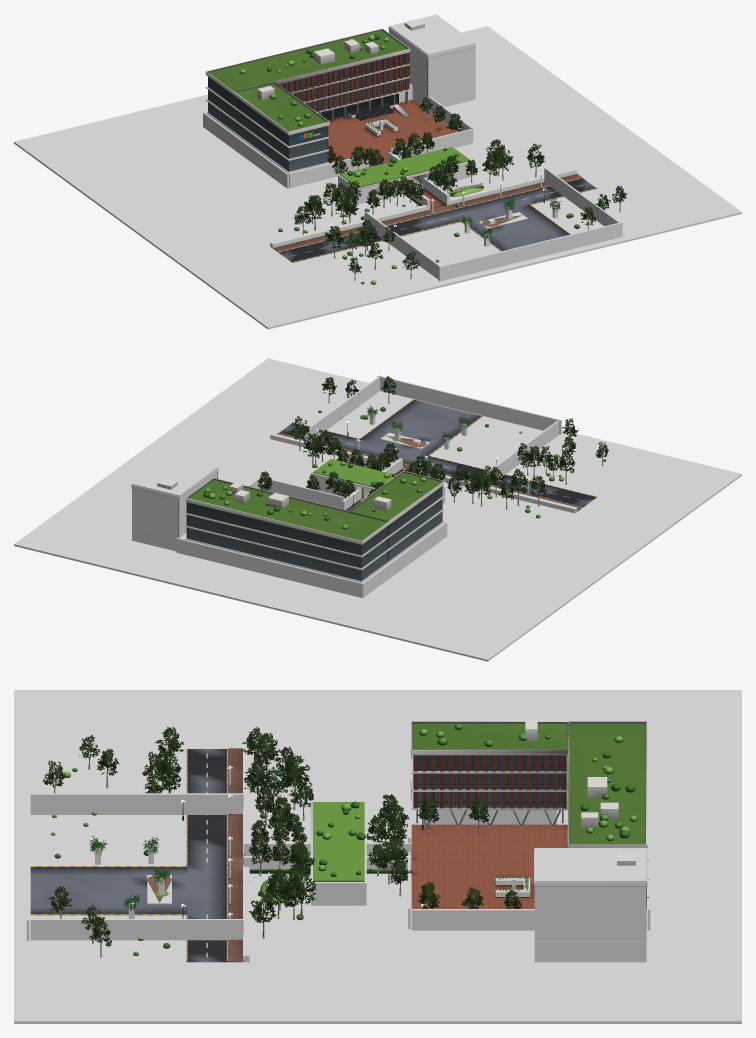
File: zone_02_campus.glb
3 views of the same model, one above another, from view 1: azimuth 30°, elevation 25°; view 2: azimuth 150°, elevation 25°; view 3: azimuth 270°, elevation 25° (orthographic). The views are drawn at different scales.
Parts seen in each view (by area): view 1: COL_ground, ENV_buildings, ENV_ground, COL_khoi_kinh_xam, ENV_paving, COL_bien_nam, COL_bien_tay_san, COL_bien_tay_duong, COL_bien_dong_duong, ENV_props, COL_bien_nam_san_trai, COL_bo_tuong_trai (+4 smaller); view 2: COL_ground, ENV_buildings, ENV_ground, COL_khoi_kinh_xam, COL_bien_bac_san, COL_bien_nam, COL_bien_tay_san, COL_bien_dong_duong, COL_bien_nam_san_phai, COL_bien_tay_duong, ENV_props, ENV_cay_mai (+2 smaller); view 3: COL_ground, ENV_buildings, ENV_ground, COL_khoi_kinh_xam, ENV_paving, COL_bien_tay_duong, COL_bien_dong_duong, COL_bien_dong_san, ENV_cay_mai, COL_canh_trai, ENV_props, ENV_vegetation (+9 smaller).
Part boxes in pixels (x1=…): COL_ground: x1=14, y1=26, x2=741, y2=329; ENV_buildings: x1=205, y1=19, x2=475, y2=190; ENV_ground: x1=272, y1=125, x2=595, y2=262; COL_khoi_kinh_xam: x1=389, y1=14, x2=475, y2=110; ENV_paving: x1=328, y1=99, x2=456, y2=209; COL_bien_nam: x1=438, y1=222, x2=622, y2=281; COL_bien_tay_san: x1=203, y1=112, x2=288, y2=188; COL_bien_tay_duong: x1=364, y1=211, x2=440, y2=279; COL_bien_dong_duong: x1=544, y1=167, x2=619, y2=226; ENV_props: x1=272, y1=127, x2=597, y2=262; COL_bien_nam_san_trai: x1=288, y1=156, x2=369, y2=187; COL_bo_tuong_trai: x1=270, y1=205, x2=430, y2=247; COL_ground: x1=14, y1=358, x2=741, y2=661; ENV_buildings: x1=131, y1=459, x2=445, y2=582; ENV_ground: x1=277, y1=399, x2=596, y2=511; COL_khoi_kinh_xam: x1=132, y1=455, x2=218, y2=551; COL_bien_bac_san: x1=176, y1=538, x2=362, y2=597; COL_bien_nam: x1=377, y1=375, x2=561, y2=434; COL_bien_tay_san: x1=362, y1=522, x2=447, y2=597; COL_bien_dong_duong: x1=304, y1=376, x2=379, y2=441; COL_bien_nam_san_phai: x1=261, y1=477, x2=343, y2=508; COL_bien_tay_duong: x1=484, y1=420, x2=559, y2=485; ENV_props: x1=263, y1=399, x2=596, y2=511; ENV_cay_mai: x1=203, y1=461, x2=426, y2=529; COL_ground: x1=14, y1=690, x2=741, y2=1023; ENV_buildings: x1=310, y1=720, x2=649, y2=942; ENV_ground: x1=30, y1=748, x2=530, y2=962; COL_khoi_kinh_xam: x1=534, y1=848, x2=646, y2=962; ENV_paving: x1=411, y1=824, x2=567, y2=908; COL_bien_tay_duong: x1=30, y1=793, x2=243, y2=814; COL_bien_dong_duong: x1=30, y1=919, x2=243, y2=940; COL_bien_dong_san: x1=411, y1=909, x2=534, y2=930; ENV_cay_mai: x1=316, y1=724, x2=637, y2=876; COL_canh_trai: x1=423, y1=810, x2=557, y2=824; ENV_props: x1=30, y1=748, x2=424, y2=962; ENV_vegetation: x1=51, y1=763, x2=479, y2=957.
Bounding box in the file's own units: 140 × 20.09 × 130.
Materials: 13 (9 with a texture image).
